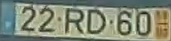0: (134, 10, 151, 36)
2: (36, 6, 55, 32), (20, 4, 37, 31)
6: (116, 9, 132, 36)
D: (86, 8, 107, 35)
R: (63, 7, 85, 35)
